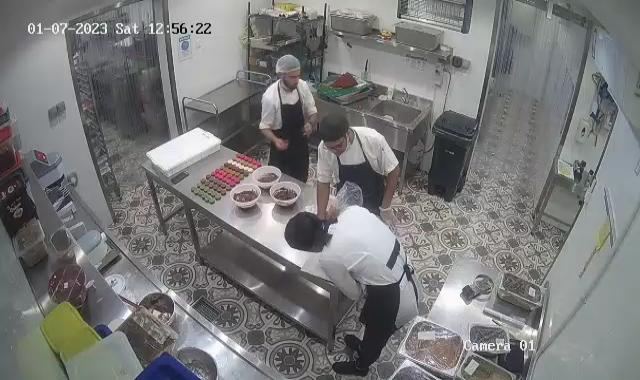hairnet: (273, 54, 300, 76)
no_hairnet: (284, 211, 331, 250), (317, 113, 351, 150)
